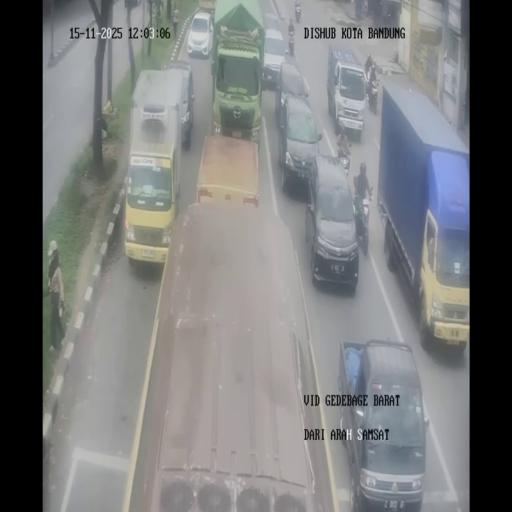3: (376, 86, 469, 352), (124, 70, 188, 267), (211, 1, 265, 143), (196, 133, 260, 212), (326, 46, 367, 141), (198, 0, 215, 16)
car: (337, 340, 427, 510), (305, 155, 358, 293), (275, 60, 310, 127), (262, 24, 286, 87), (187, 11, 213, 58), (264, 12, 281, 34)
truck: (353, 189, 371, 254), (366, 77, 379, 114), (336, 146, 350, 178), (364, 54, 373, 76), (288, 34, 294, 56), (294, 3, 300, 22), (362, 0, 368, 17), (386, 8, 392, 23)
